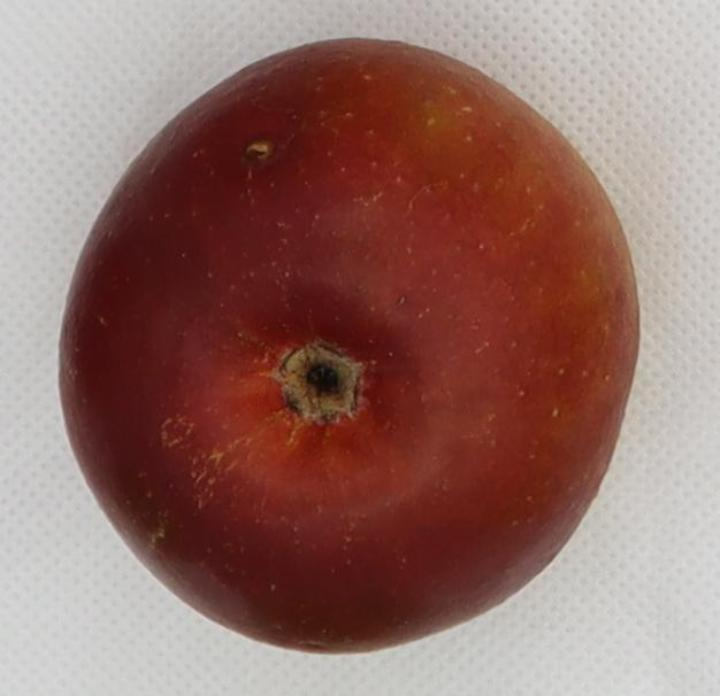apple: (60, 40, 637, 652)
surface_damage: (245, 139, 274, 161)
